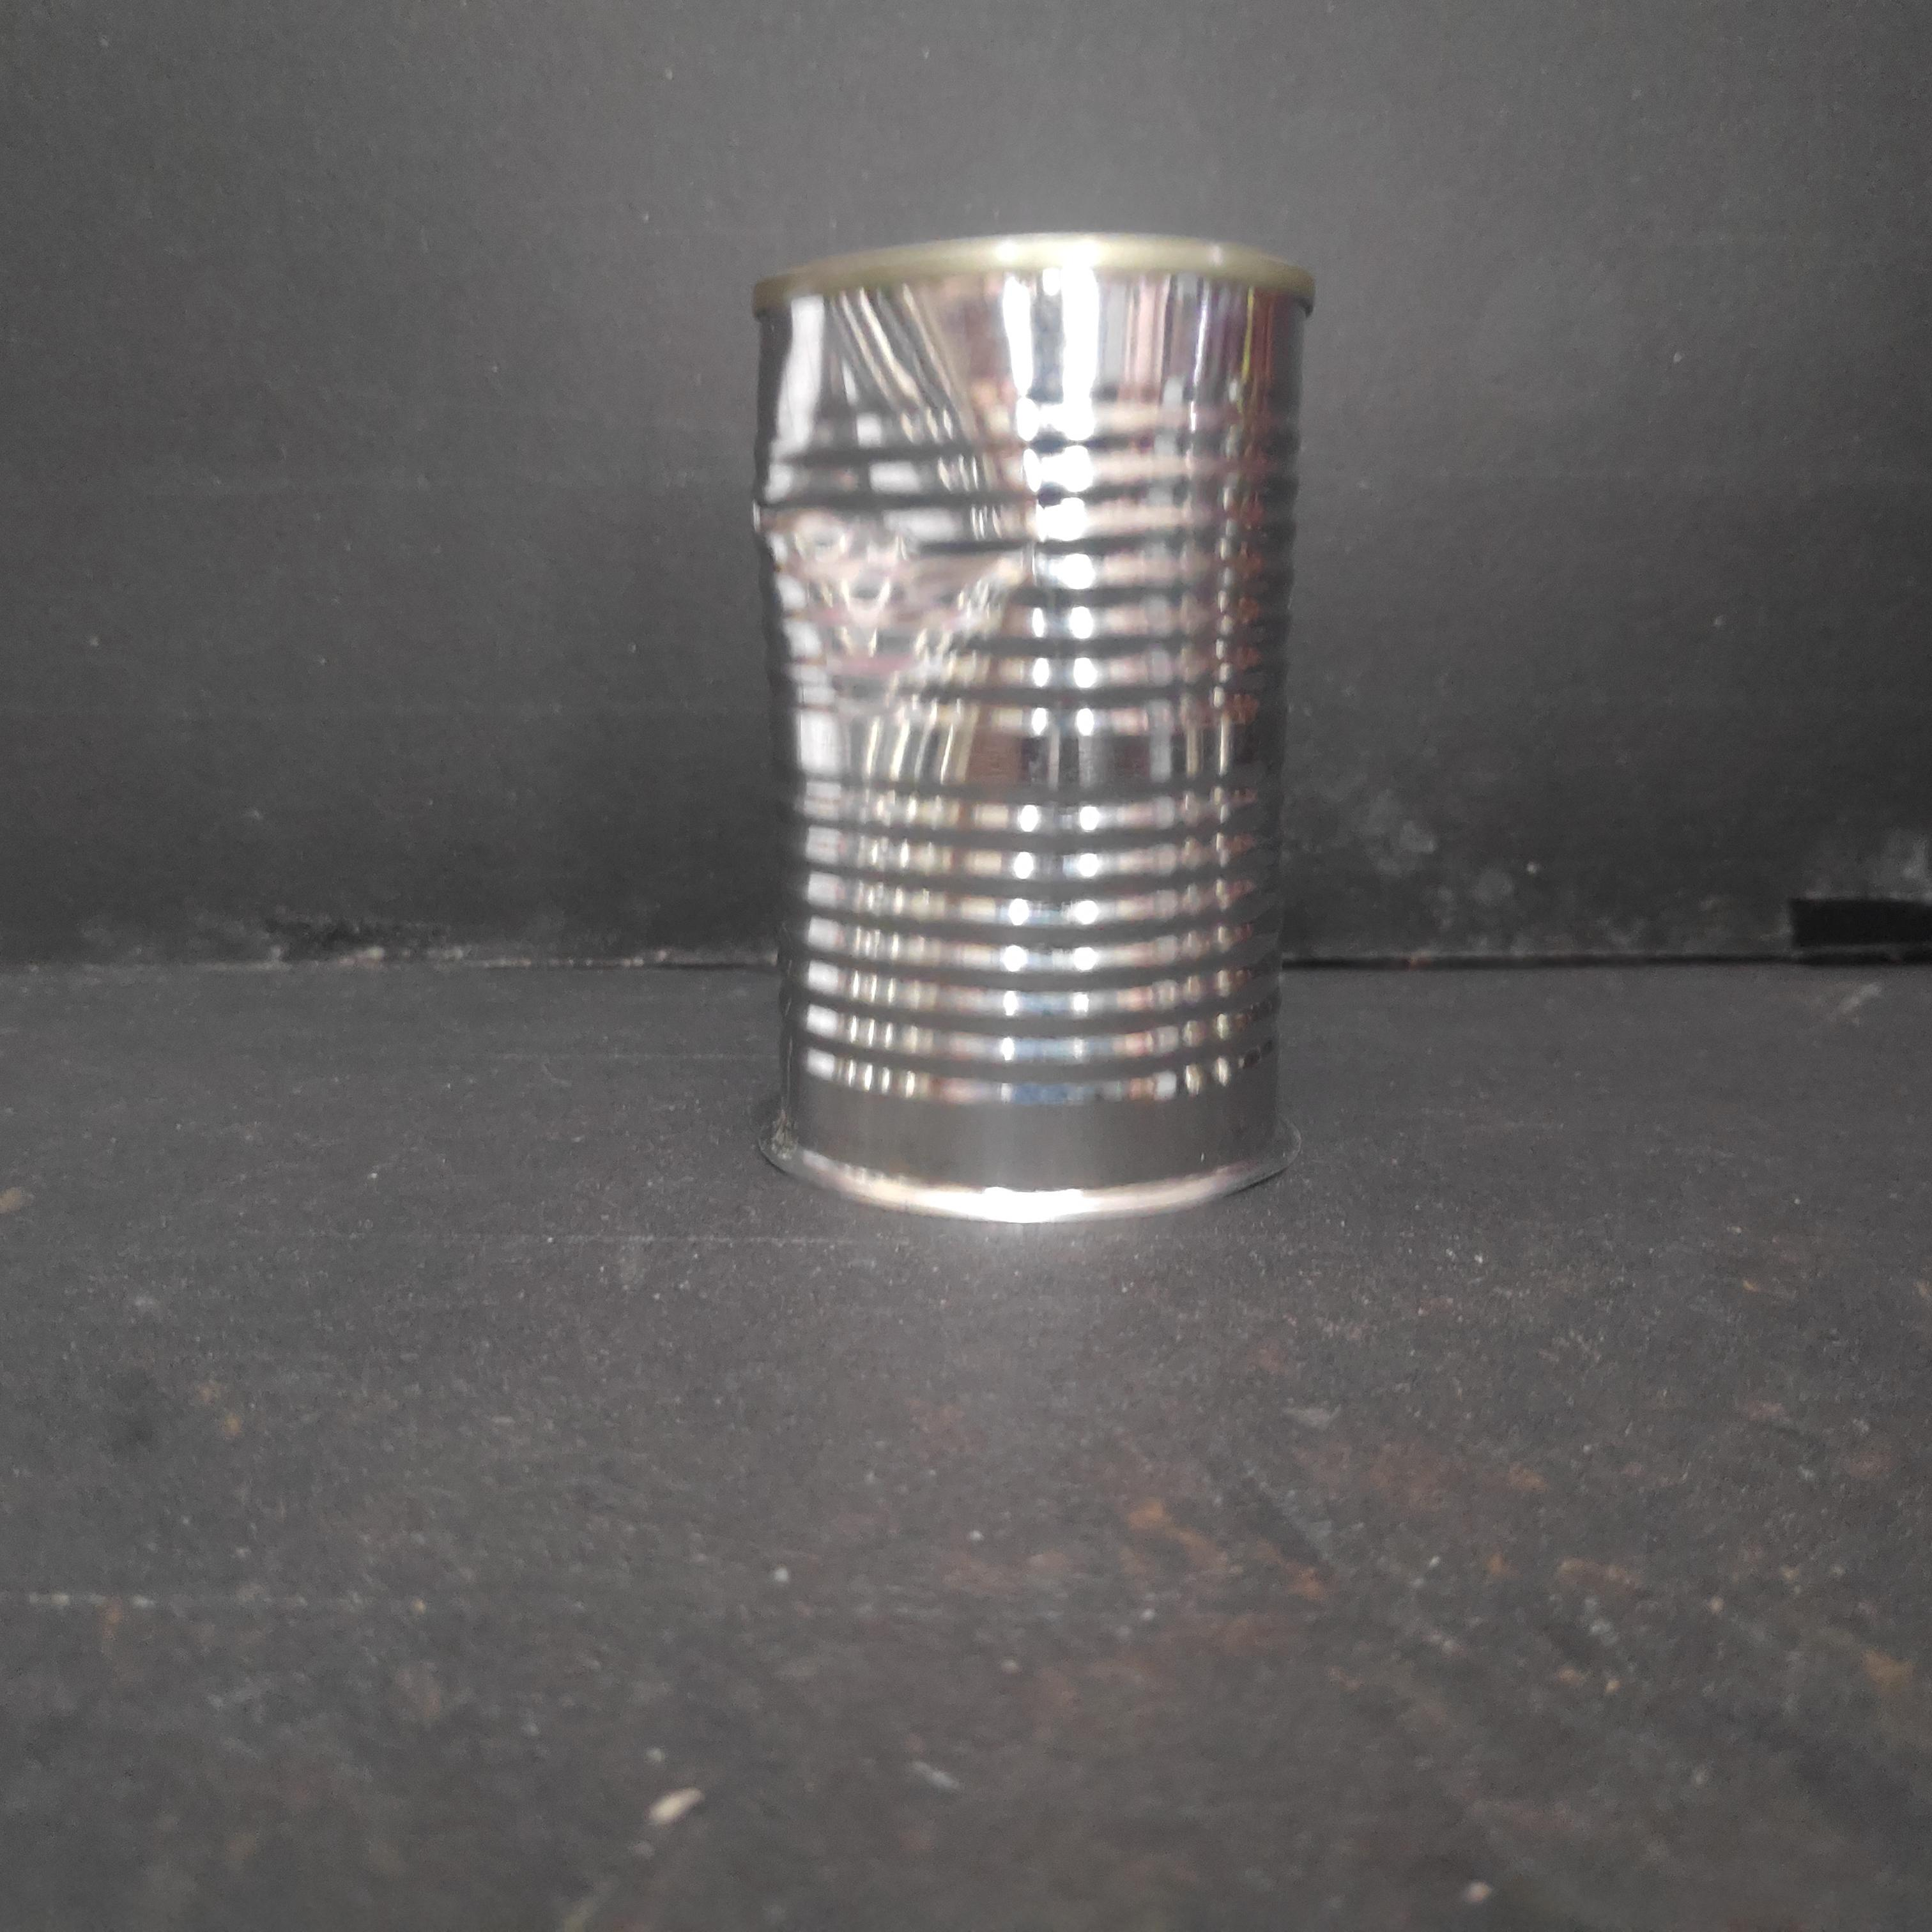Minor Defect: (740, 218, 1332, 1240)
